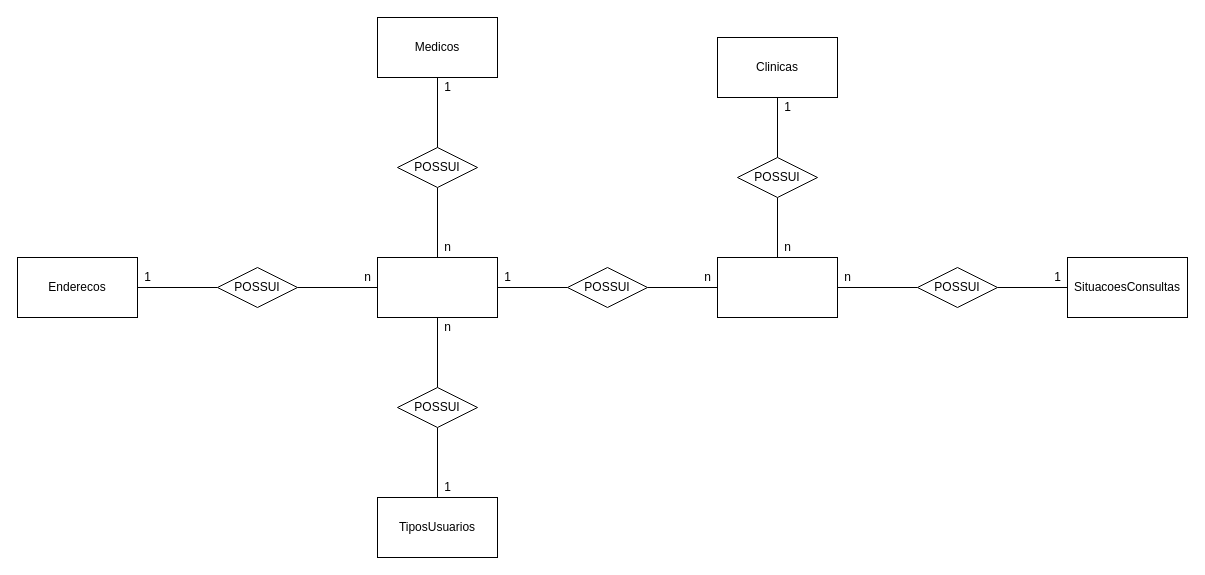
Image size: 1205x575. Some labels were removed from this diagram. Each missing label, with the centre of its shape:
Consultas: point 777,287
Usuarios: point 437,287
